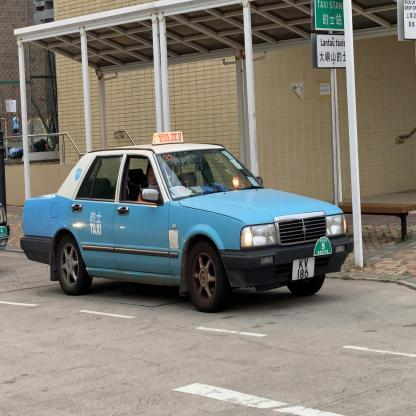taxi: (21, 126, 354, 335)
